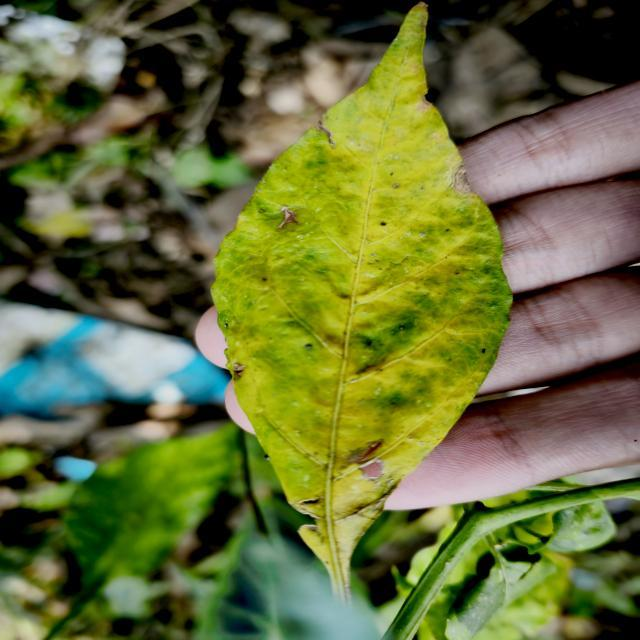Virus Kuning: (208, 3, 514, 571)
